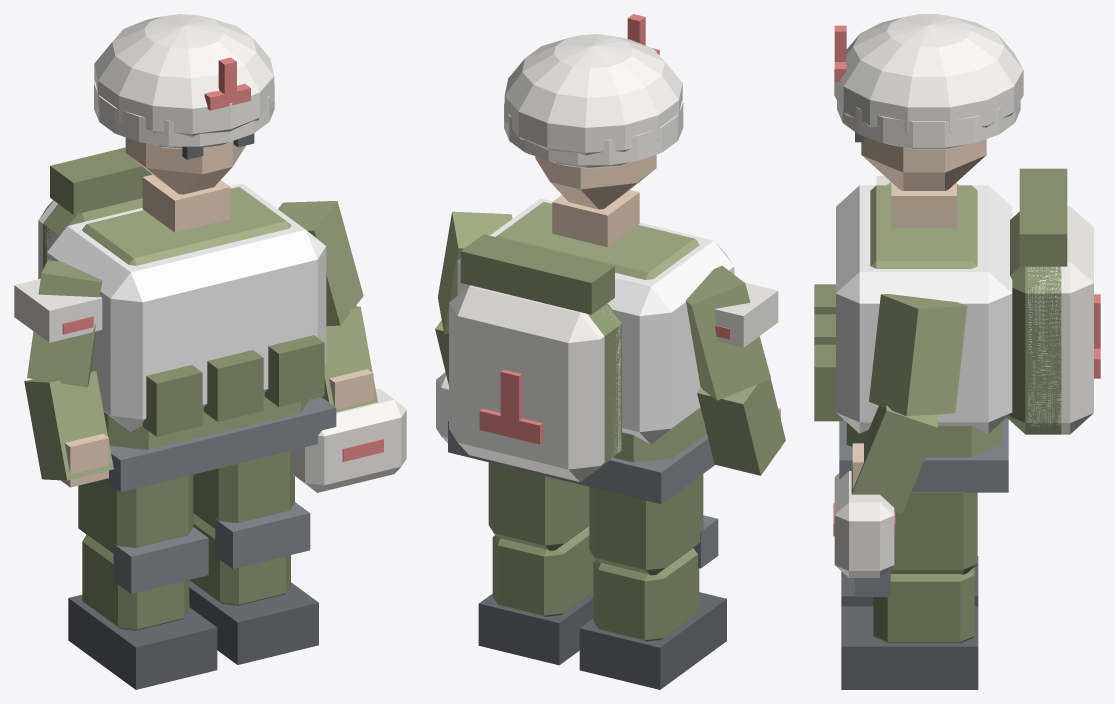
File: medic.glb
The picture shows the model from 3 angles, left to right: view 1: azimuth 30°, elevation 25°; view 2: azimuth 150°, elevation 25°; view 3: azimuth 270°, elevation 25°; orthographic projection. The views are drawn at different scales.
Visible parts, largest first — view 1: main, shinl, shinr, legl, legr; view 2: main, shinl, shinr, legl, legr; view 3: main, shinr, legr, shinl.
Boxes of the visible parts, x1,y1,x2,y2 form: main: (14, 14, 406, 492); shinl: (68, 527, 217, 689); shinr: (189, 502, 318, 664); legl: (78, 474, 193, 554); legr: (193, 450, 294, 529); main: (435, 14, 785, 504); shinl: (579, 515, 726, 689); shinr: (478, 526, 595, 665); legl: (589, 474, 703, 575); legr: (488, 462, 589, 550); main: (814, 14, 1100, 577); shinr: (841, 567, 978, 689); legr: (890, 492, 977, 574); shinl: (841, 556, 978, 606).
Size of the model in its own units: 0.3455 by 0.5733 by 0.24.
